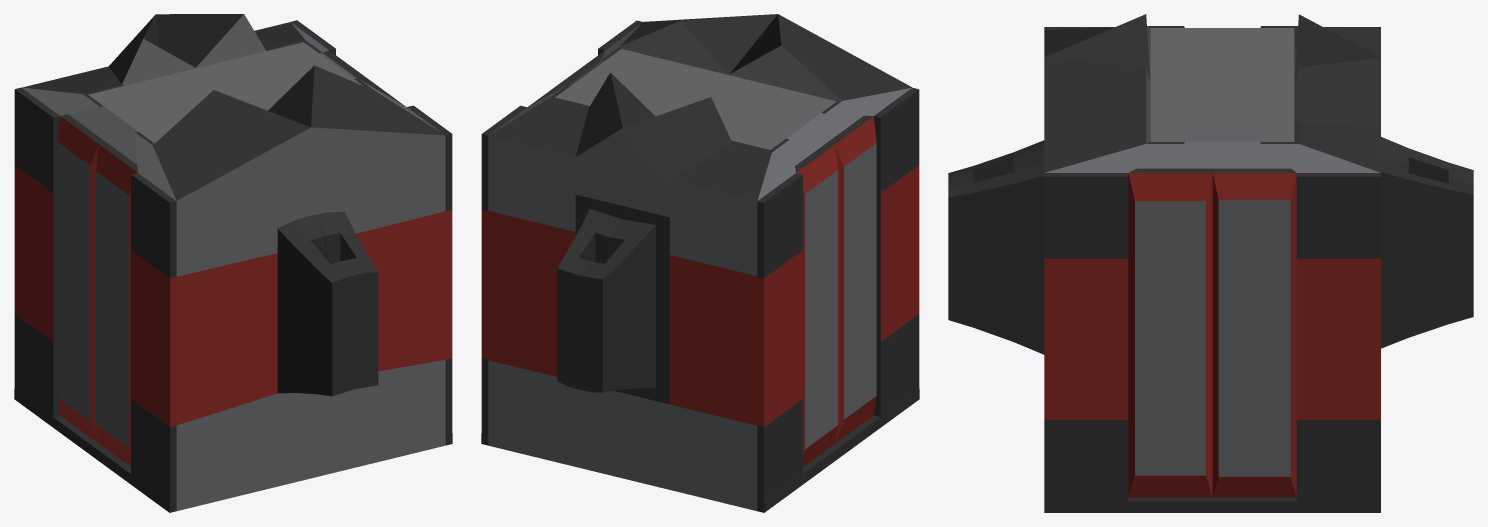
Rendered from ElevatorNew.fbx.
3 views of the same model, side by side, from view 1: azimuth 30°, elevation 25°; view 2: azimuth 150°, elevation 25°; view 3: azimuth 270°, elevation 25° (orthographic). The views are drawn at different scales.
Parts seen in each view (by area): view 1: Cube.003; view 2: Cube.003; view 3: Cube.003.
Boxes of the visible parts, x1,y1,x2,y2 form: Cube.003: [14, 14, 452, 512]; Cube.003: [481, 14, 919, 512]; Cube.003: [948, 14, 1473, 512].
Size of the model in its own units: 287 by 356 by 426.
